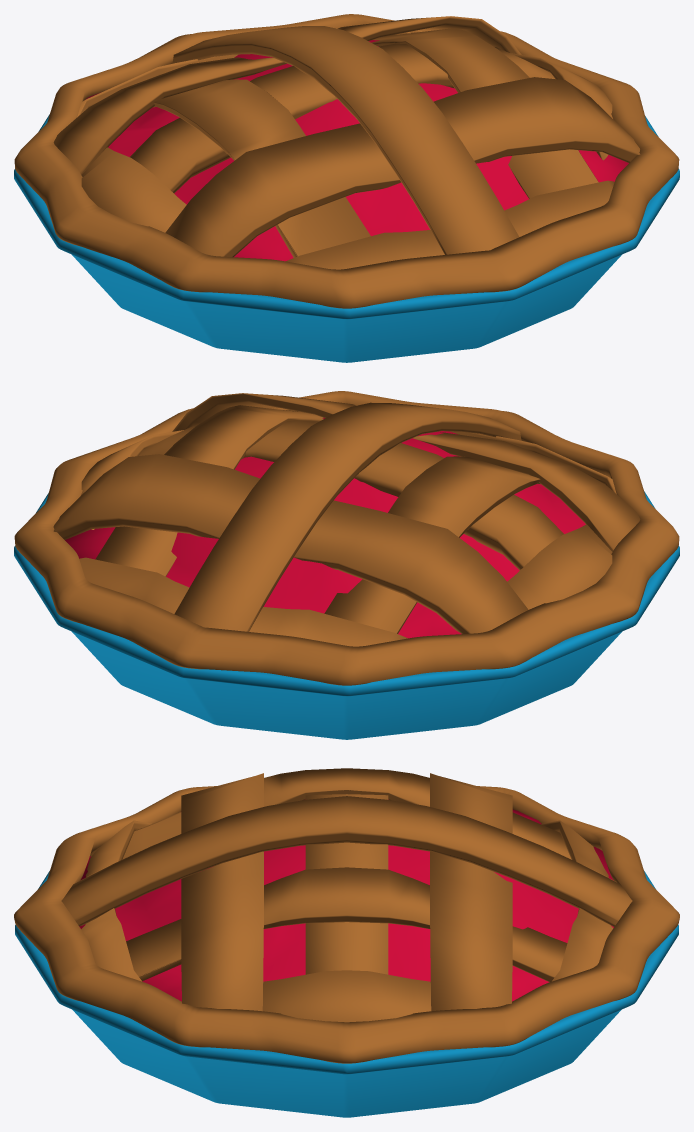
File: rare_pie.glb
3 renders of one model, top to bottom at view 1: azimuth 30°, elevation 25°; view 2: azimuth 150°, elevation 25°; view 3: azimuth 270°, elevation 25°, orthographic.
Parts seen in each view (by area): view 1: TARTE_0; view 2: TARTE_0; view 3: TARTE_0.
Boxes of the visible parts, x1,y1,x2,y2 form: TARTE_0: [14, 14, 679, 362]; TARTE_0: [14, 391, 679, 739]; TARTE_0: [14, 768, 679, 1117].
Size of the model in its own units: 3.6 by 1.16 by 3.6.
